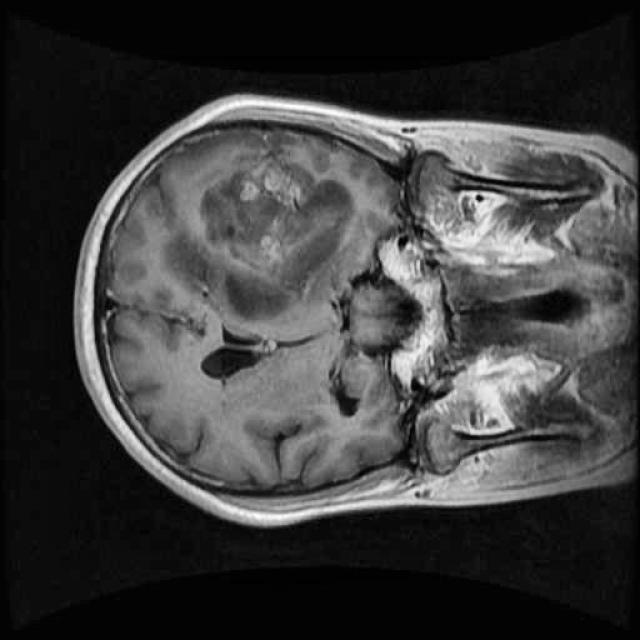Tumor: (158, 141, 371, 330)
